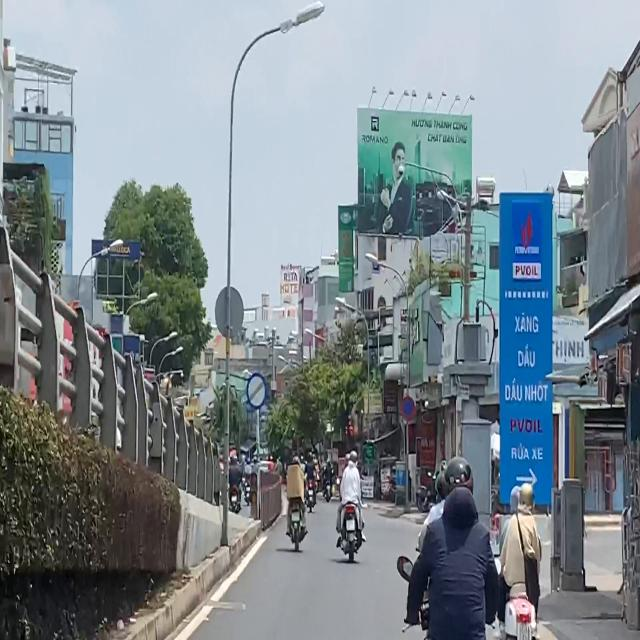Cam do: (401, 396, 415, 422)
Het tat ca lenh cam: (246, 373, 267, 410)
